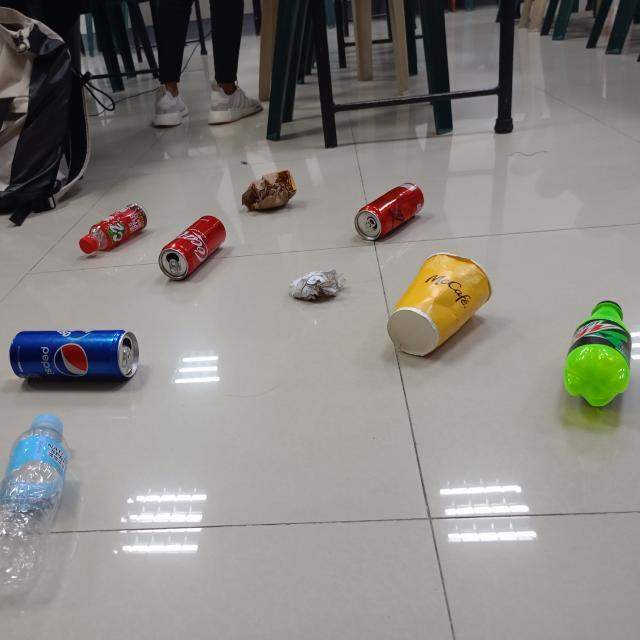recyclable waste: (0, 406, 76, 591), (382, 248, 498, 359), (559, 297, 635, 412), (6, 324, 146, 386), (350, 172, 430, 247), (154, 210, 233, 283), (76, 198, 156, 259), (237, 166, 300, 216), (286, 266, 354, 304)
